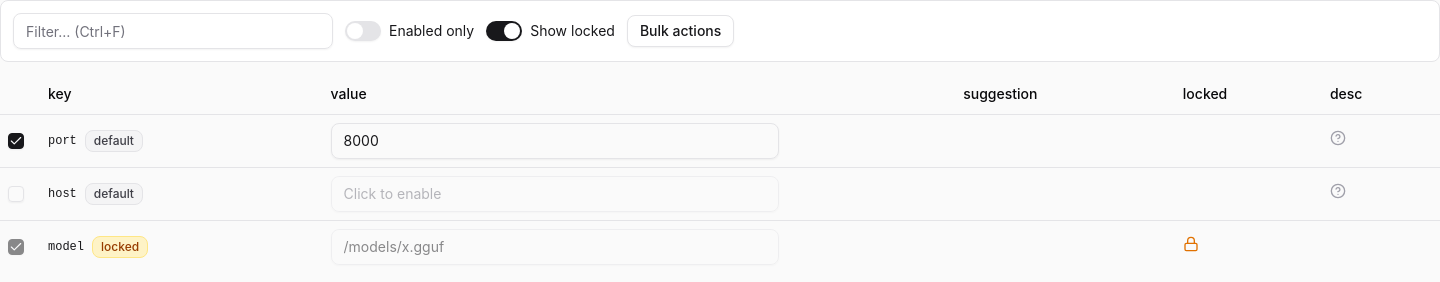
Scenario: ParamGrid › shows empty filter message
Type "no-such-param" into the field named "Filter parameters".
click(173, 31); type("no-such-param")  # box [13, 13, 333, 49]
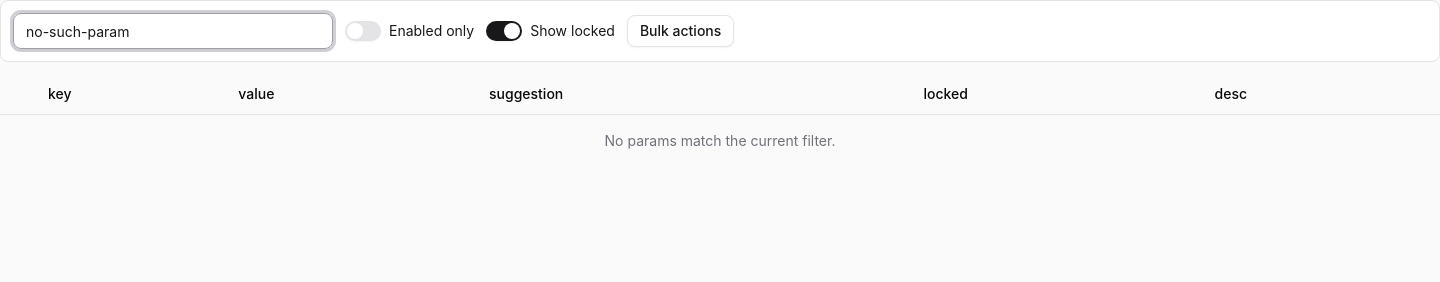
Now the text "No params match the current filter." is shown, box [0, 114, 1439, 166]
